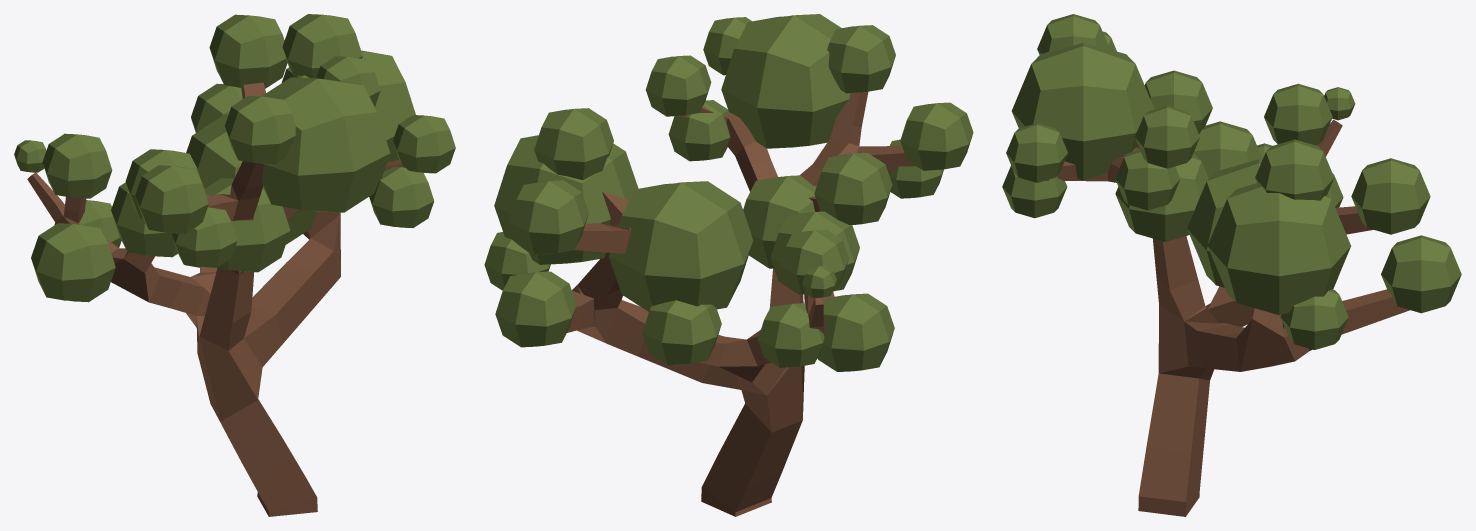
The model's file is Trees1-3.fbx.
The picture shows the model from 3 angles, left to right: view 1: azimuth 30°, elevation 25°; view 2: azimuth 150°, elevation 25°; view 3: azimuth 270°, elevation 25°; orthographic projection. The views are drawn at different scales.
Visible parts, largest first — view 1: Tree.004, Tree.003; view 2: Tree.004, Tree.003; view 3: Tree.004, Tree.003.
Boxes of the visible parts, <box> form: Tree.004: <box>14,14,455,302</box>; Tree.003: <box>27,82,402,516</box>; Tree.004: <box>484,14,973,371</box>; Tree.003: <box>567,92,916,516</box>; Tree.004: <box>1002,14,1461,349</box>; Tree.003: <box>1044,119,1409,516</box>.
Bounding box in the file's own units: 437 × 506 × 466.
